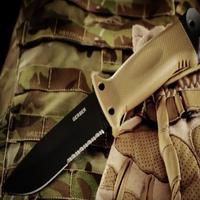knife: (3, 22, 186, 192)
